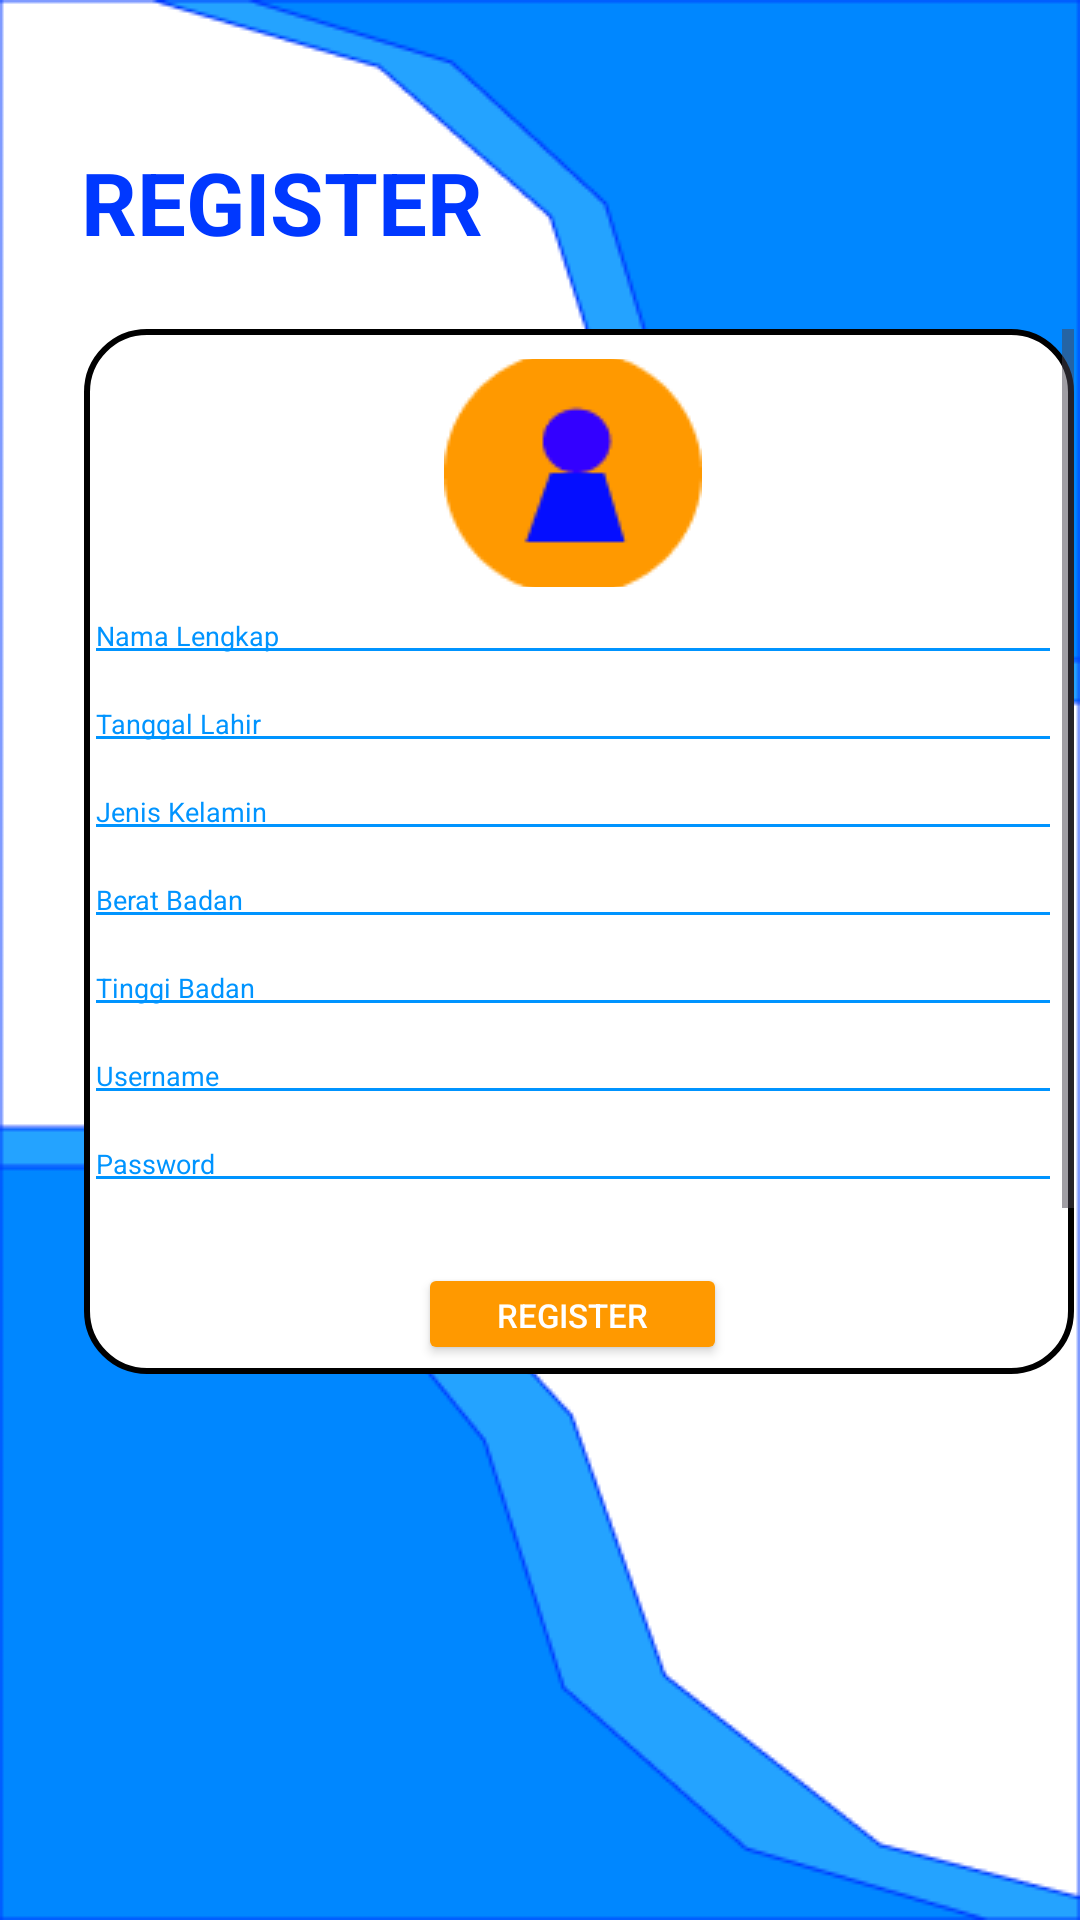

Named icons in this screenshot (1080×1920) and their centers, (x,y):
pc profile: (573,473)
